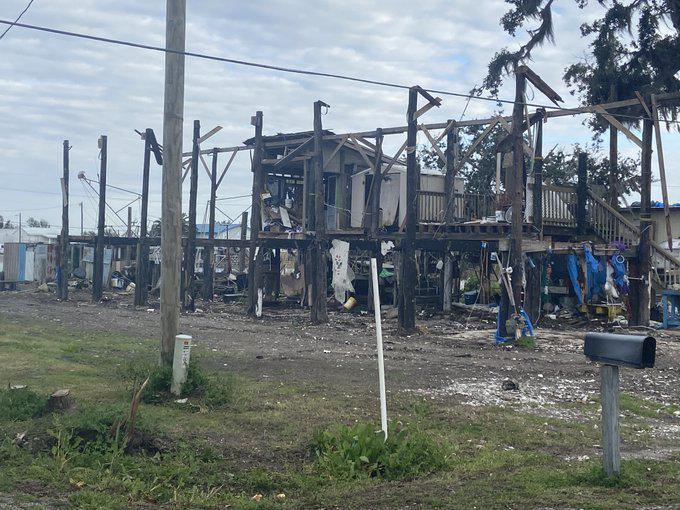destroyed: (50, 72, 680, 308)
